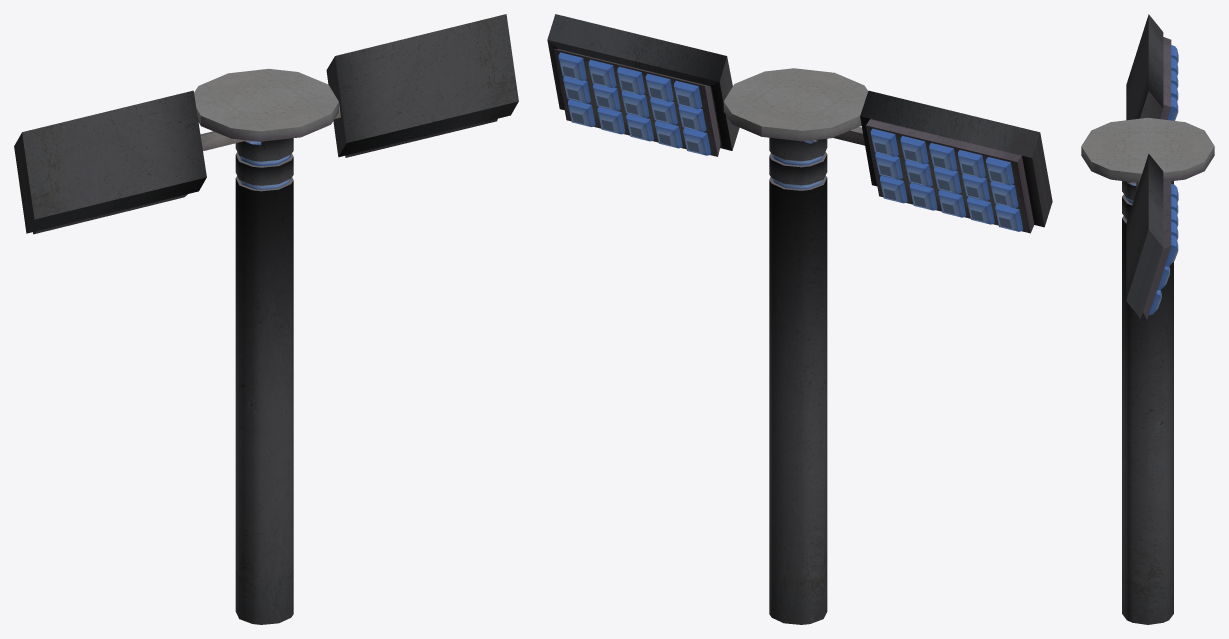
File: spotlight.fbx
3 views of the same model, side by side, from view 1: azimuth 30°, elevation 25°; view 2: azimuth 150°, elevation 25°; view 3: azimuth 270°, elevation 25° (orthographic). The views are drawn at different scales.
Visible parts, largest first — view 1: spotlight1; view 2: spotlight1, lights_2, lights_1; view 3: spotlight1, lights_1, lights_2.
Boxes of the visible parts, x1=… form: spotlight1: x1=14, y1=14, x2=518, y2=624; spotlight1: x1=547, y1=14, x2=1052, y2=624; lights_2: x1=870, y1=128, x2=1023, y2=231; lights_1: x1=558, y1=52, x2=710, y2=155; spotlight1: x1=1081, y1=14, x2=1214, y2=624; lights_1: x1=1149, y1=184, x2=1178, y2=314; lights_2: x1=1167, y1=45, x2=1178, y2=120.
Size of the model in its own units: 16.28 by 17.33 by 4.26.
2 materials, 2 textured.
